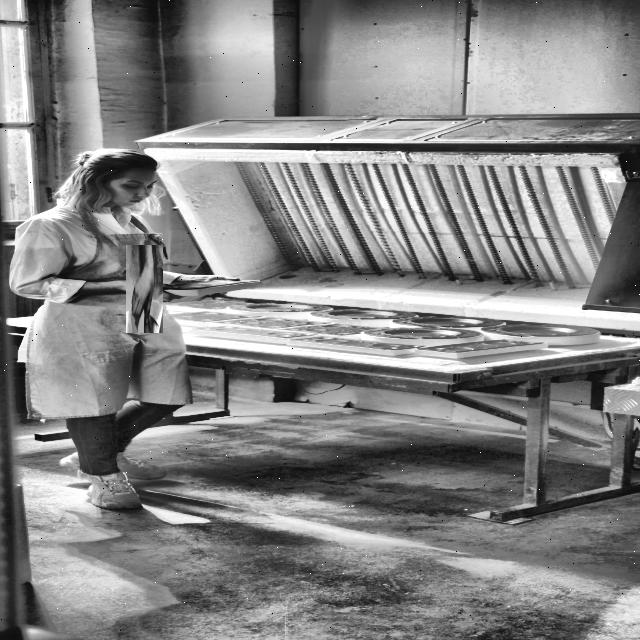not-gloved: (113, 258, 175, 320)
